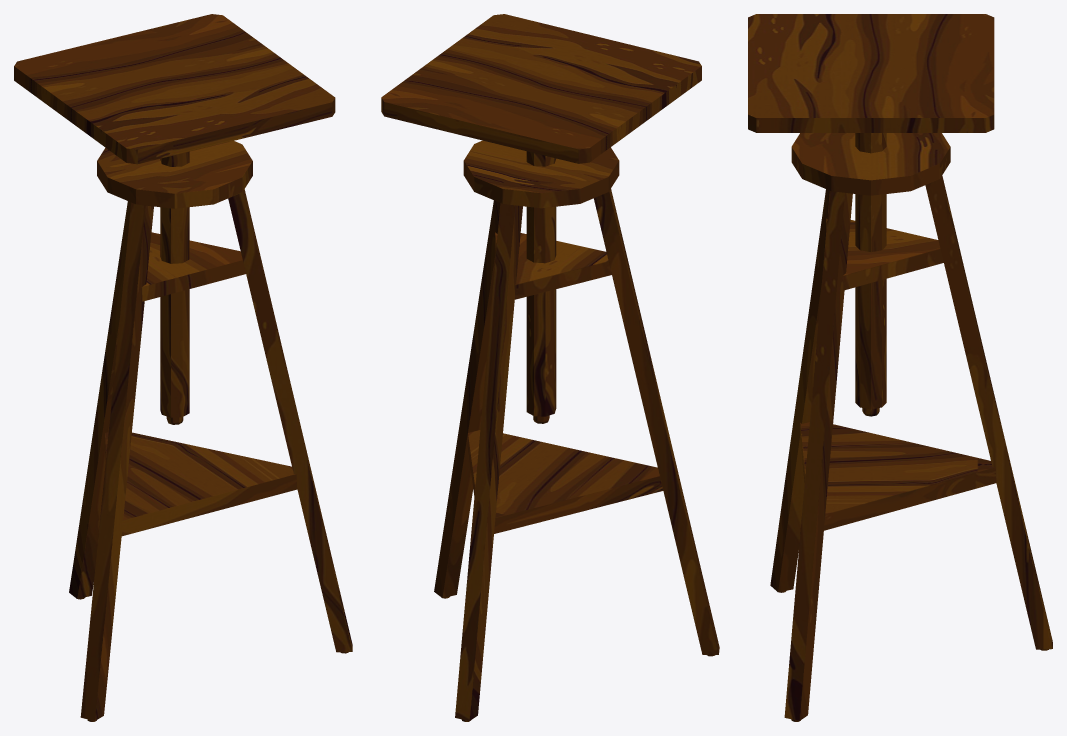
Rendered from sculpture-stand.glb.
3 views of the same model, side by side, from view 1: azimuth 30°, elevation 25°; view 2: azimuth 150°, elevation 25°; view 3: azimuth 270°, elevation 25° (orthographic). The views are drawn at different scales.
Parts seen in each view (by area): view 1: sculpture_stand; view 2: sculpture_stand; view 3: sculpture_stand.
Boxes of the visible parts, x1,y1,x2,y2 form: sculpture_stand: (14, 14, 352, 721); sculpture_stand: (381, 14, 719, 721); sculpture_stand: (748, 14, 1052, 721).
Bounding box in the file's own units: 2.29 × 4.52 × 2.12.
1 material, 1 textured.
